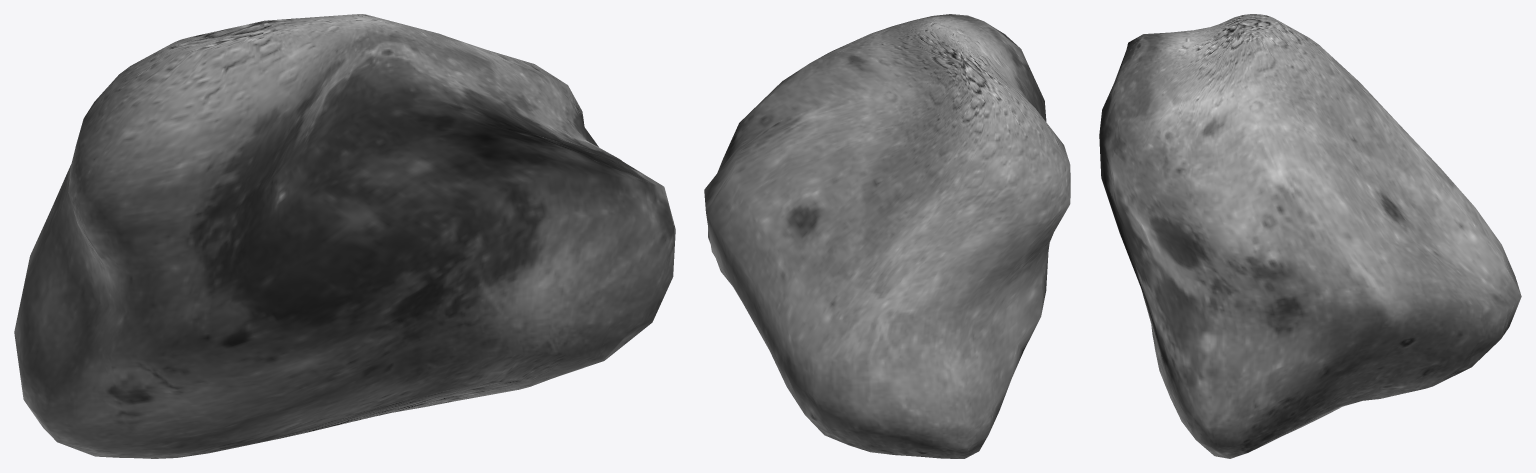
File: Asteroid1.FBX
3 views of the same model, side by side, from view 1: azimuth 30°, elevation 25°; view 2: azimuth 150°, elevation 25°; view 3: azimuth 270°, elevation 25° (orthographic). The views are drawn at different scales.
Visible parts, largest first — view 1: Sphere01; view 2: Sphere01; view 3: Sphere01.
Part boxes in pixels (x1,y1,x2,y2): Sphere01: (14,14,675,458); Sphere01: (704,14,1070,458); Sphere01: (1099,14,1521,458).
Size of the model in its own units: 128 by 108 by 112.
1 material, 1 textured.
